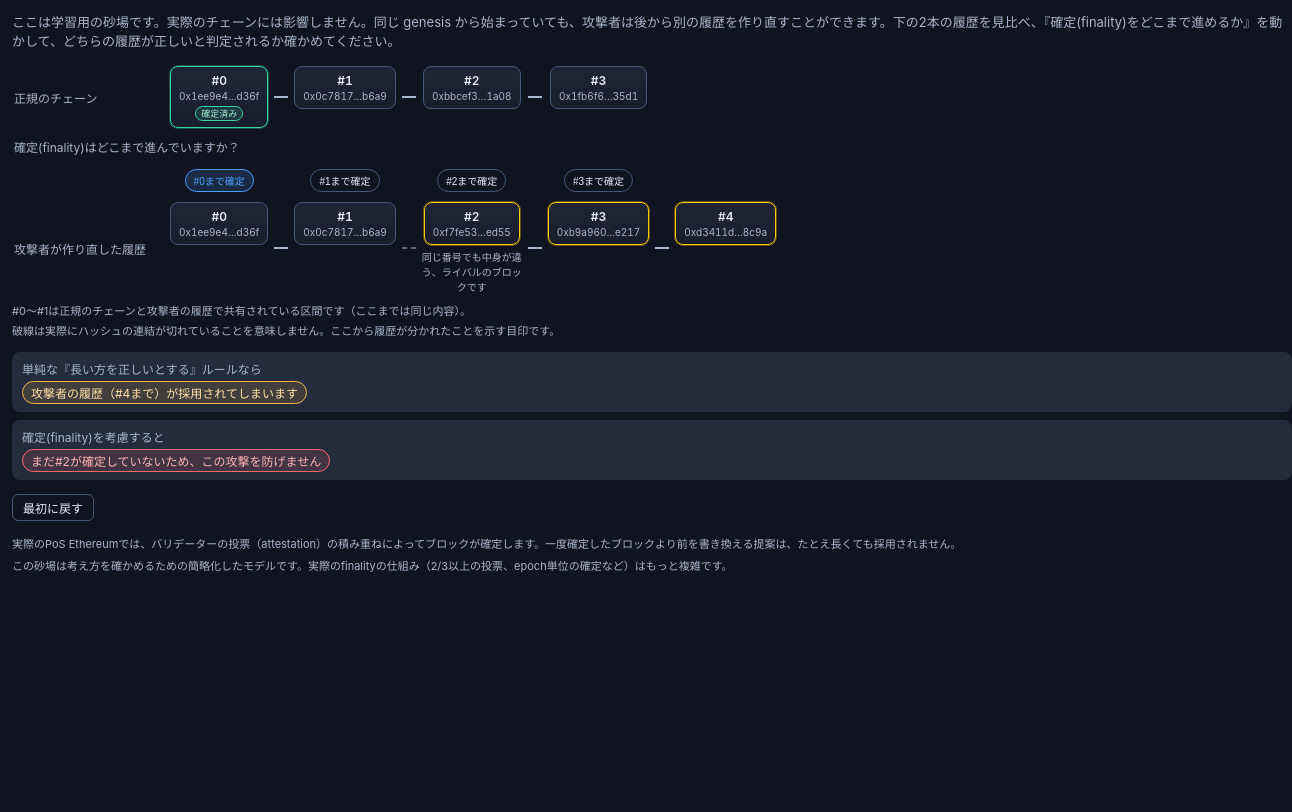
Scenario: LongRangeAttackDemoView: sweeping the checkpoint forward and back › flips the finality verdict back and forth across the divergence boundary
This screenshot has width=1292, height=812.
Click the button "#2まで確定": (472,180) left=437, top=169, right=506, bottom=192
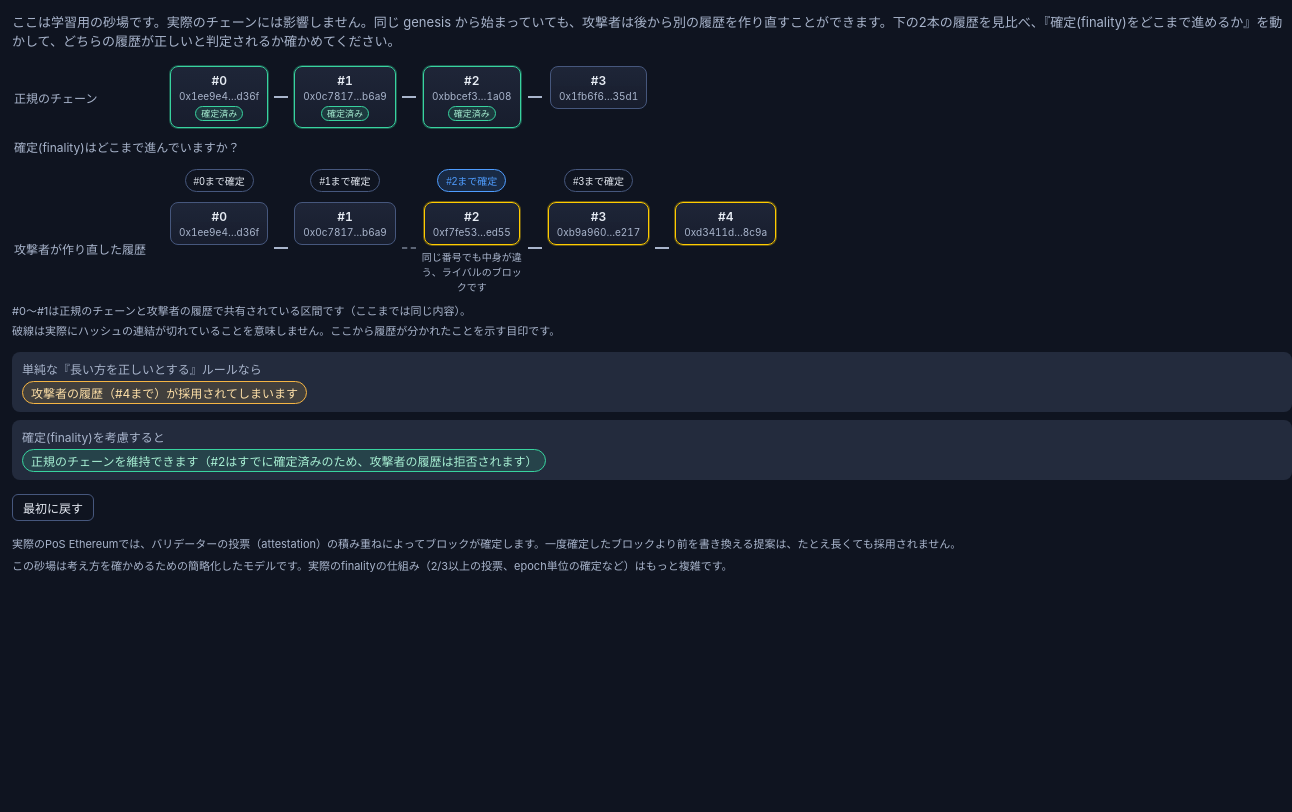
expect the text with test id "long-range-demo-verdict-finality" shows "維持できます": met, box left=31, top=454, right=538, bottom=469
Click the button "#1まで確定": (345,180) left=310, top=169, right=380, bottom=192
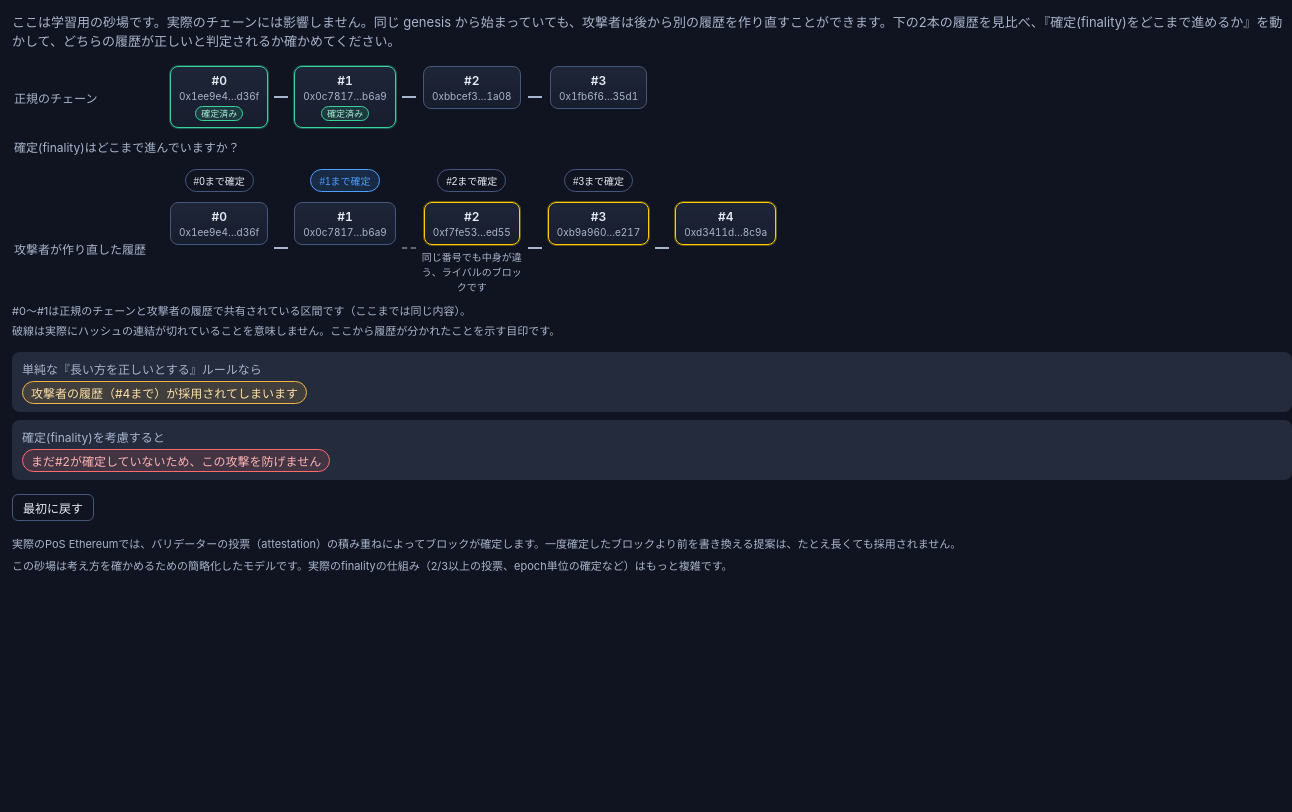
expect the text with test id "long-range-demo-verdict-finality" shows "防げません": met, box left=31, top=454, right=321, bottom=469
Click the button "#2まで確定": (472,180) left=437, top=169, right=506, bottom=192
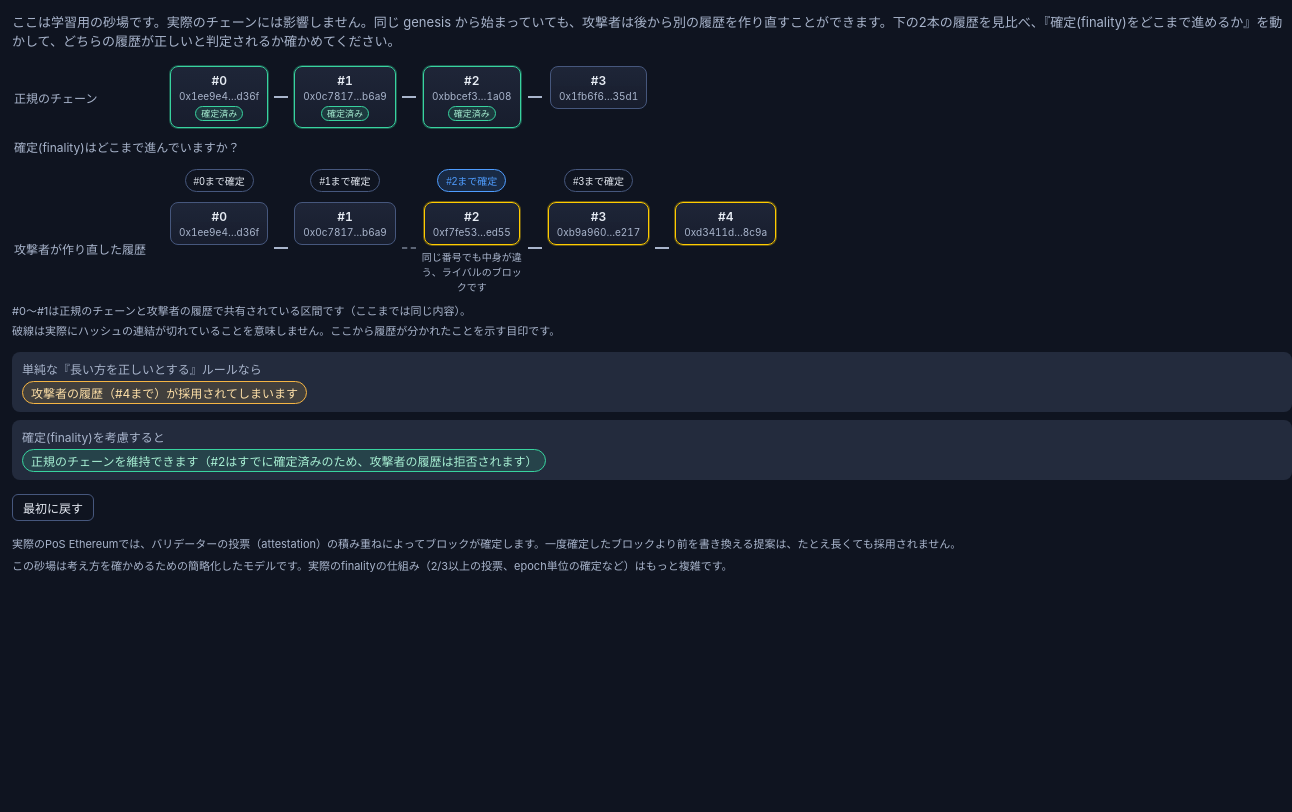
expect the text with test id "long-range-demo-verdict-finality" shows "維持できます": met, box left=31, top=454, right=538, bottom=469
Click the button "#1まで確定": (345,180) left=310, top=169, right=380, bottom=192
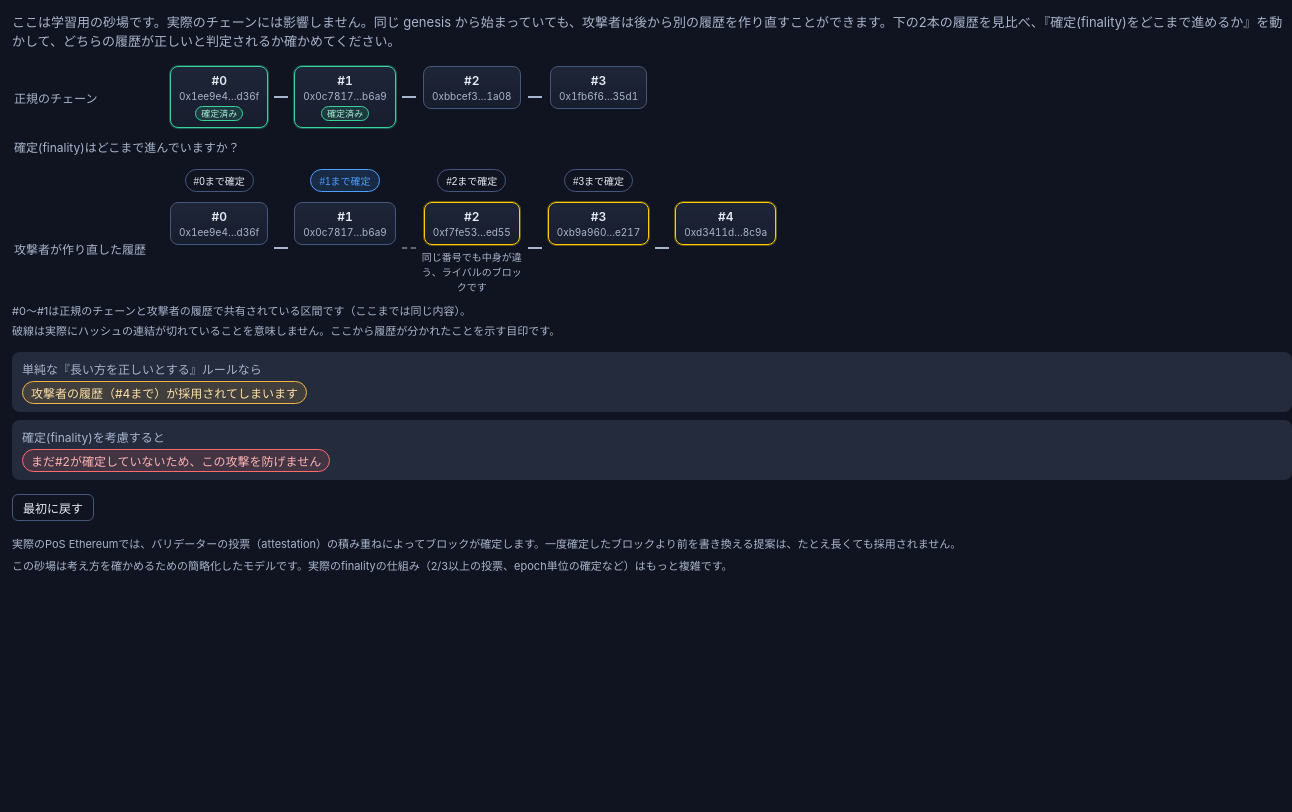
expect the text with test id "long-range-demo-verdict-finality" shows "防げません": met, box left=31, top=454, right=321, bottom=469
Click the button "#2まで確定": (472,180) left=437, top=169, right=506, bottom=192
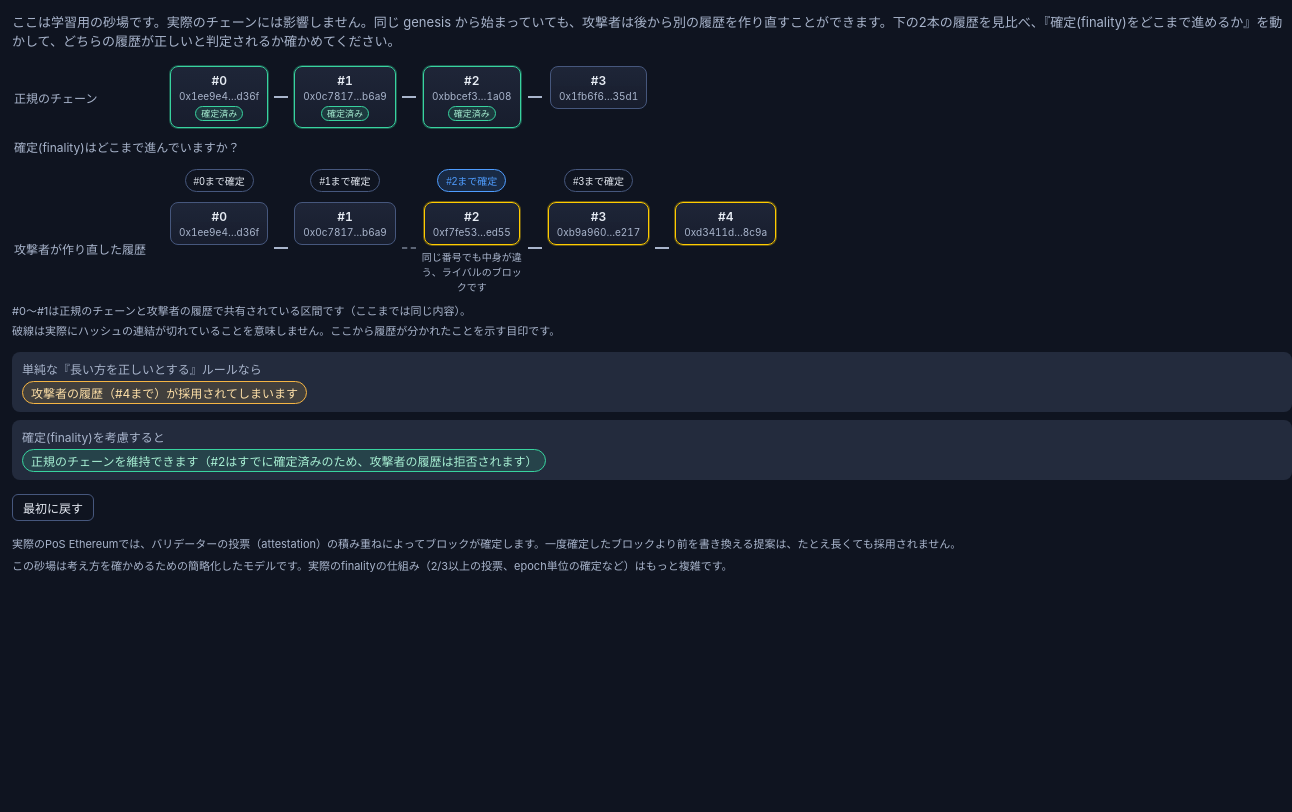
expect the text with test id "long-range-demo-verdict-finality" shows "維持できます": met, box left=31, top=454, right=538, bottom=469
Click the button "#1まで確定": (345,180) left=310, top=169, right=380, bottom=192
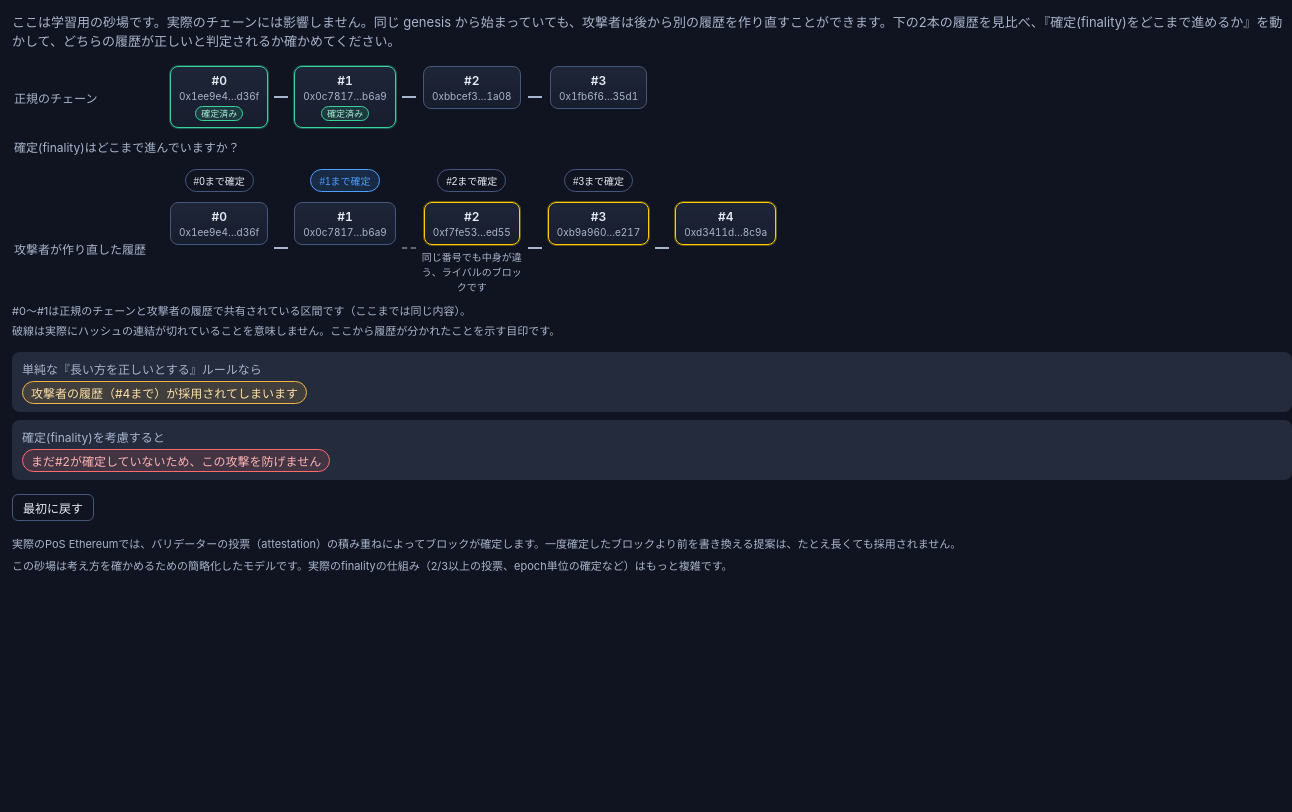
expect the text with test id "long-range-demo-verdict-finality" shows "防げません": met, box left=31, top=454, right=321, bottom=469
